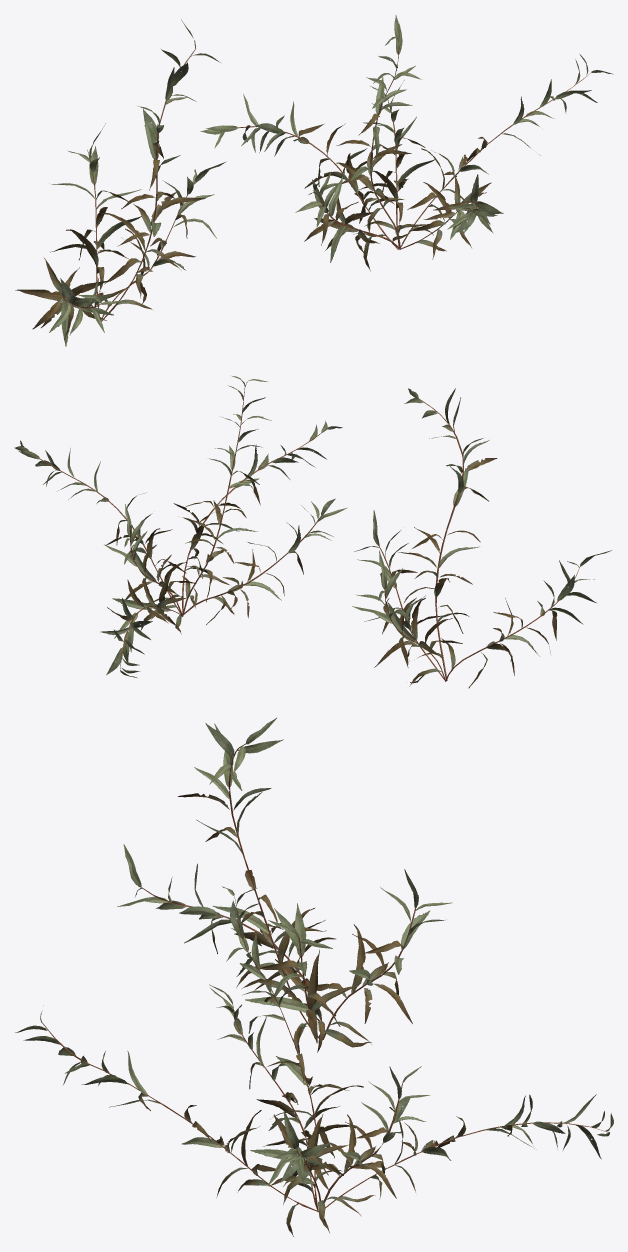
The model's file is shrub_02.glb.
The picture shows the model from 3 angles, top to bottom: view 1: azimuth 30°, elevation 25°; view 2: azimuth 150°, elevation 25°; view 3: azimuth 270°, elevation 25°; orthographic projection. The views are drawn at different scales.
Visible parts, largest first — view 1: shrub_02; view 2: shrub_02; view 3: shrub_02.
Part boxes in pixels (left/top/right/bottom): shrub_02: left=15, top=15, right=613, bottom=346; shrub_02: left=14, top=376, right=611, bottom=688; shrub_02: left=15, top=717, right=613, bottom=1236.
Size of what is drawn, in the model's own units: 3.72 by 1.8 by 2.7.
1 material, 1 textured.
